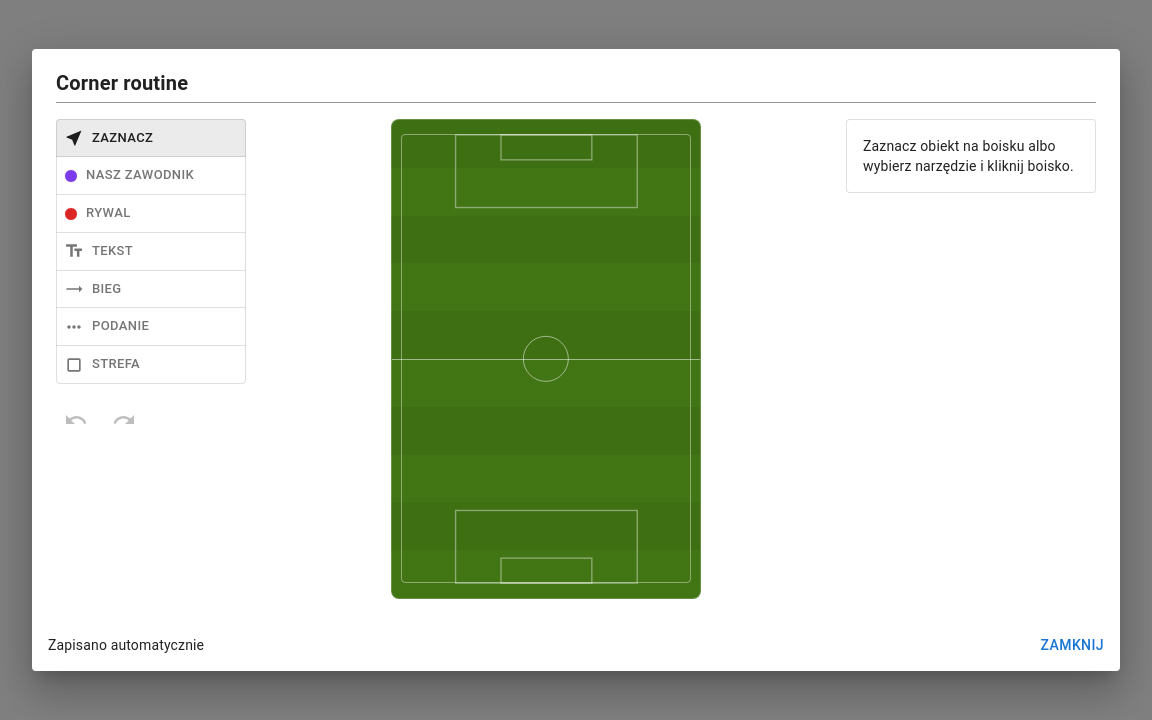
Test: placing objects › draws a Podanie arrow by dragging
Click the button "Podanie" at (151, 327), box [56,307,246,346]
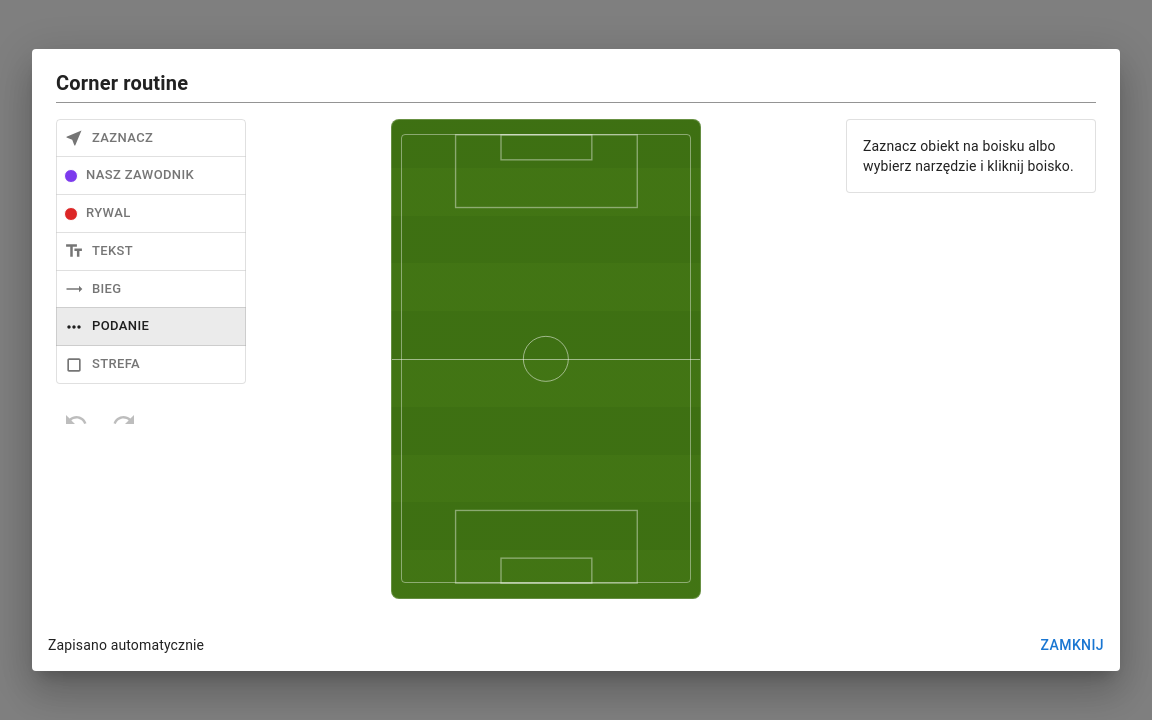
Press the mouse on the 1st icon at (546, 359), box [392,120,700,598]
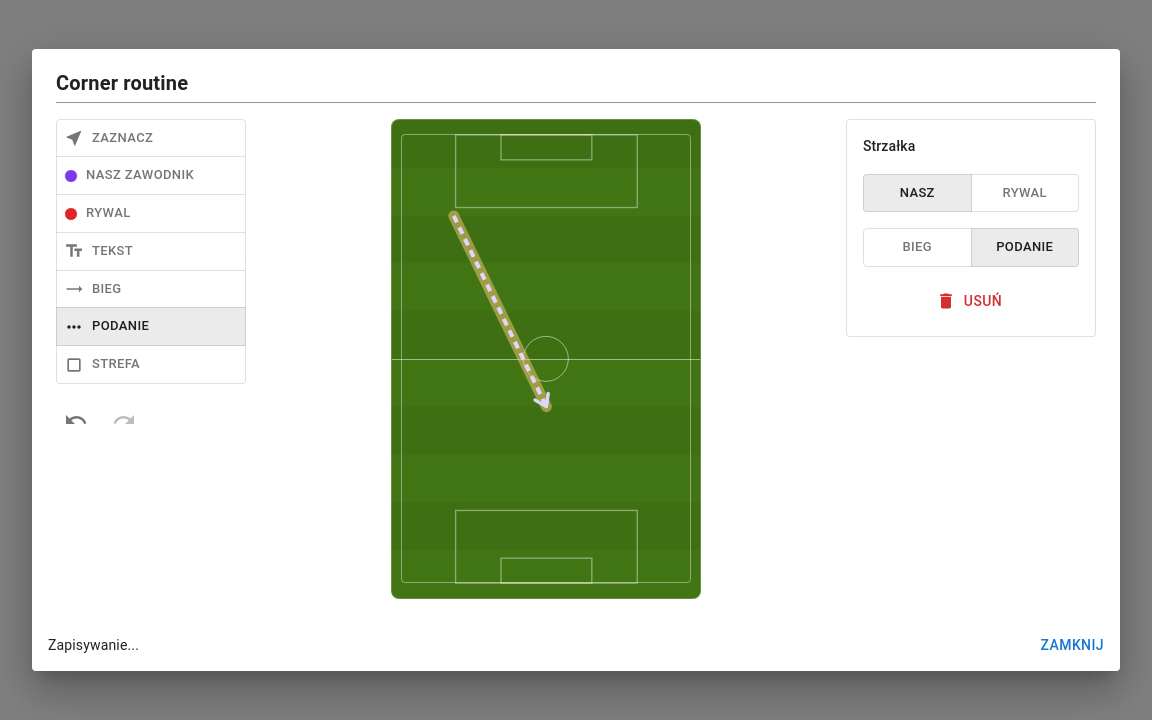
Check: the heading "Strzałka" is shown, box [863,138,915,154]
